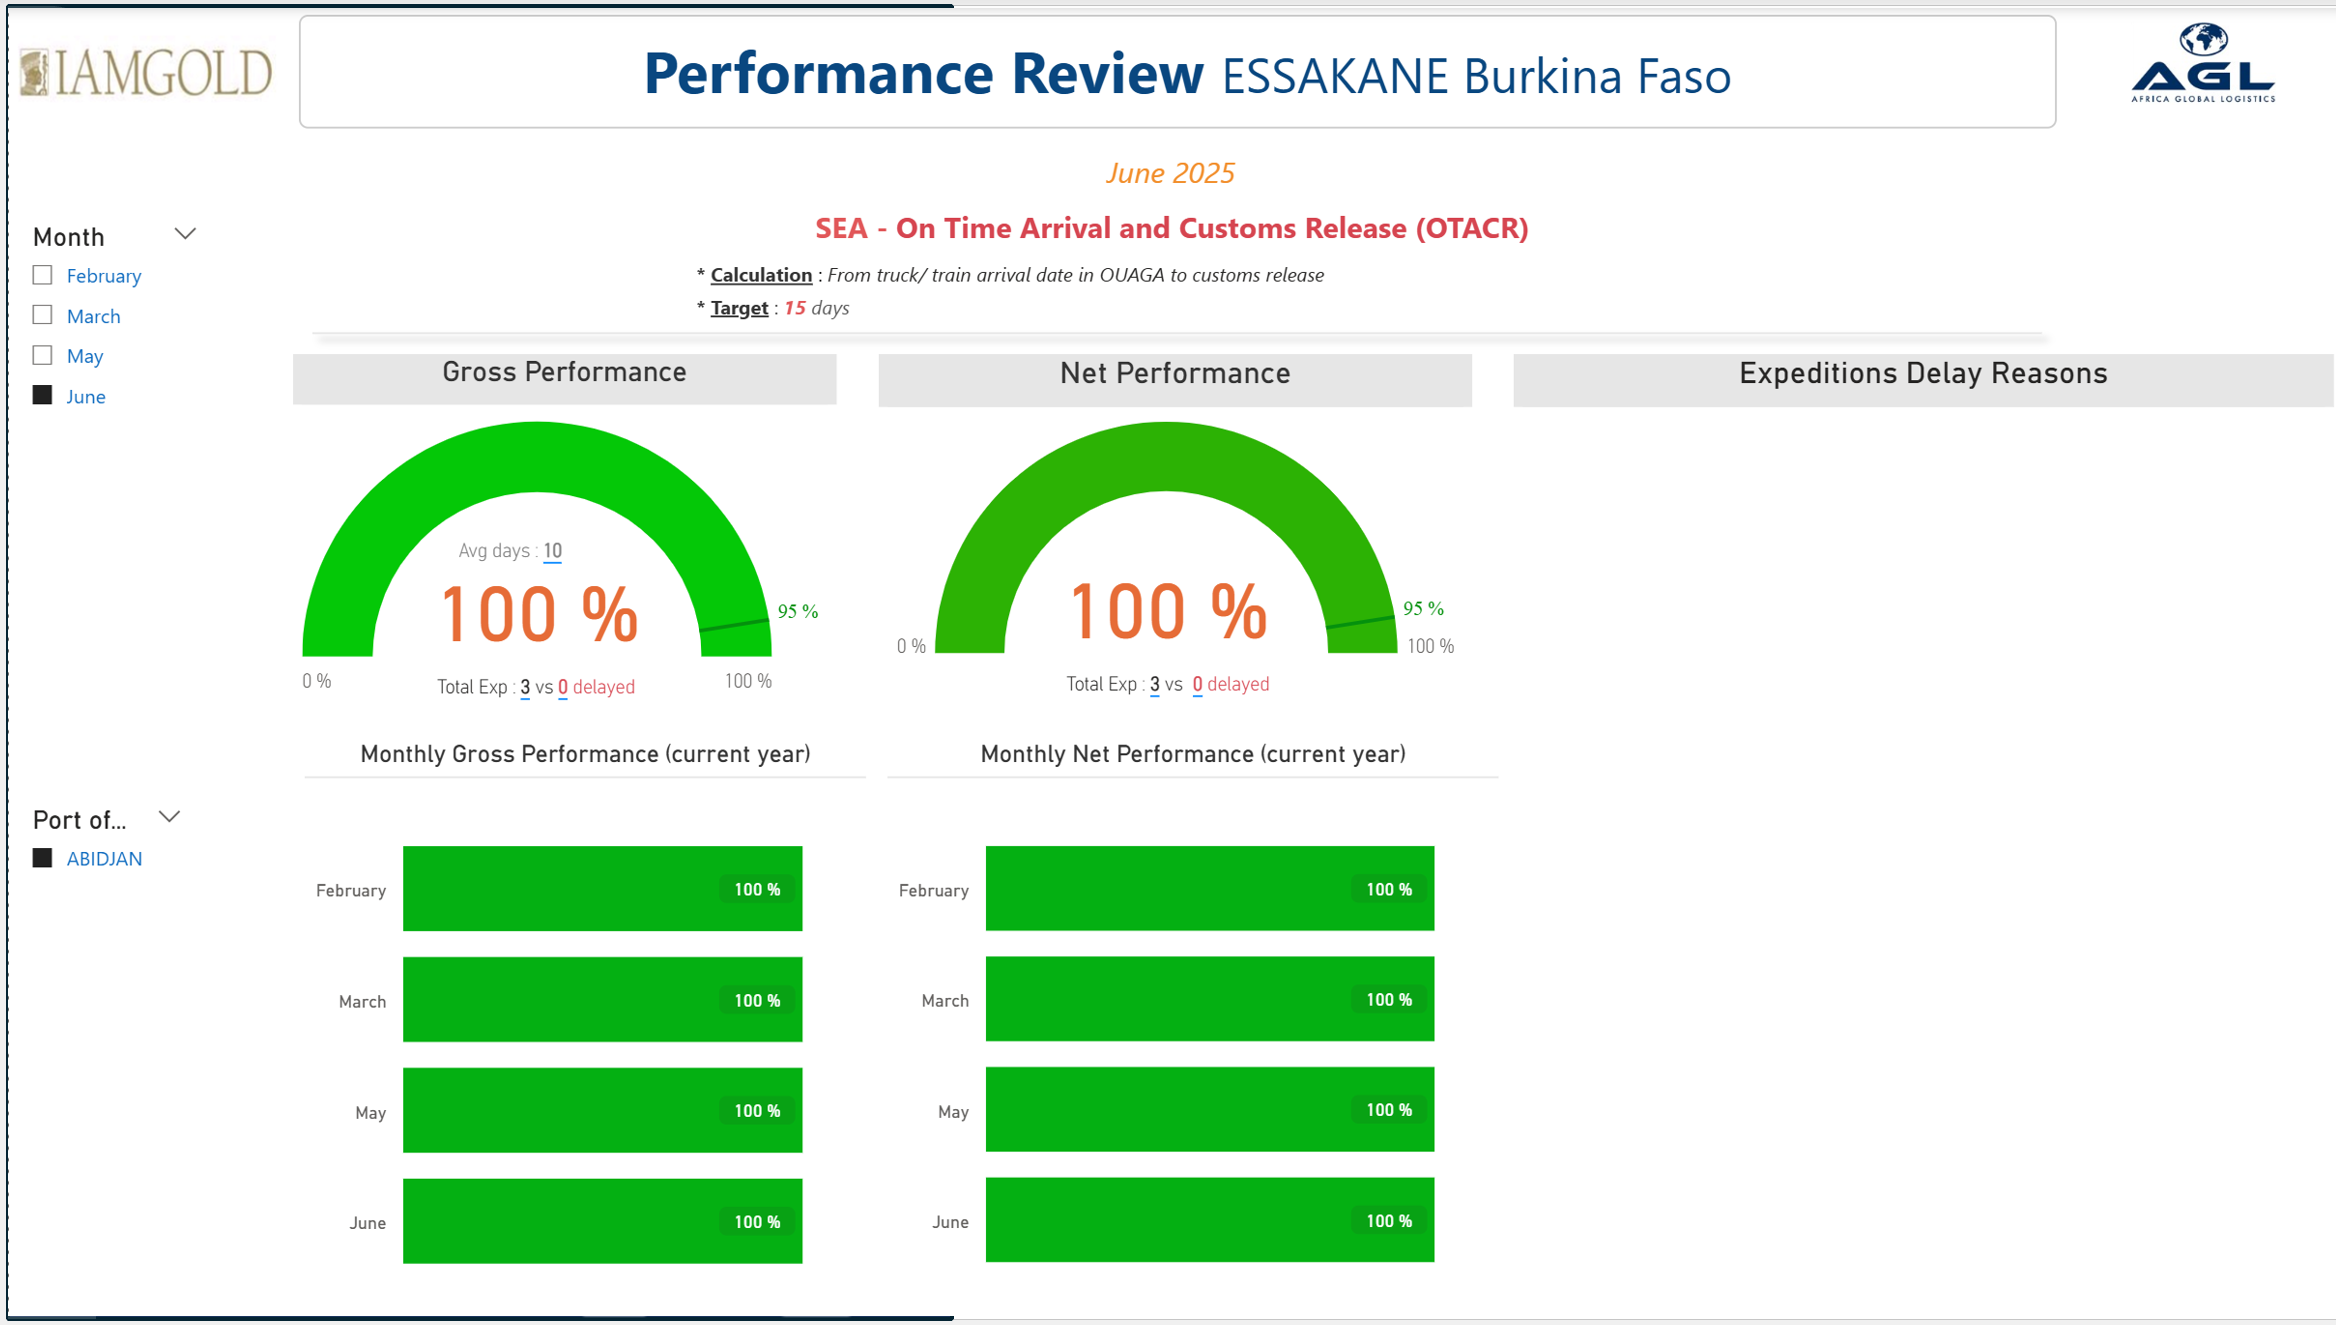

This screenshot's page, from the dashboard's own definition file:
{"tool":"powerbi","page":{"name":"SEA - ABJ | Clearance and Customs Release (OTACR)","canvas":[1280,720],"ordinal":4},"visuals":[{"type":"image","box":[1128.2,0,151.5,66.6],"z":0},{"type":"image","box":[0,0.9,152.4,65.7],"z":1000},{"type":"textbox","box":[158.5,4.4,963.5,62.2],"z":2000},{"type":"textbox","box":[369.6,104.2,535.2,33.3],"z":3000},{"type":"textbox","box":[435.3,75.3,403.8,37.7],"z":4000},{"type":"textbox","box":[371.5,132.5,474.4,47.4],"z":5000},{"type":"gauge","title":"Net Performance","fields":{"Y":["Avg(ESSA_sea.Net Performance % 3)"]},"box":[477.3,190.4,325.4,182],"z":5000,"group":"g1"},{"type":"shape","box":[156.8,170.8,966.1,18.4],"z":6000},{"type":"slicer","fields":{"Values":["ESSA_sea.Month"]},"box":[0,113,115.6,275.9],"z":7000},{"type":"gauge","title":"Gross Performance","fields":{"Y":["Avg(ESSA_sea.Gross Performance % 3)"]},"box":[156.5,190.4,298.1,202.4],"z":8000},{"type":"slicer","fields":{"Values":["ESSA_sea.Port of Discharge"]},"box":[0,431.8,106.9,94.6],"z":9000},{"type":"group","id":"g1","title":"Groupe 1","box":[477.3,190.4,325.4,182],"z":10000,"group":"g2"},{"type":"barChart","title":"Monthly Gross Performance (current year)","fields":{"Y":["Avg(ESSA_sea.Gross Performance % 3)"],"Category":["ESSA_sea.Month"]},"box":[162.2,402.9,307.7,317.4],"z":10000},{"type":"barChart","title":"Monthly Net Performance (current year)","fields":{"Y":["Avg(ESSA_sea.Net Performance % 3)"],"Category":["ESSA_sea.Month"]},"box":[481.3,402.9,335,316.5],"z":11000},{"type":"barChart","title":"Expeditions Delay Reasons","fields":{"Category":["ESSA_sea.Reasons for Delay 3"],"Y":["CountNonNull(ESSA_sea.Reasons for Delay 3)"]},"box":[825.4,190.4,449.6,276.1],"z":12000},{"type":"treemap","fields":{"Group":["ESSA_sea.Delay Responsibility3"],"Values":["CountNonNull(ESSA_sea.Delay Responsibility3)"]},"box":[825,469,449,250],"z":13000},{"type":"textbox","box":[241.3,282.6,100,33.9],"z":14000},{"type":"textbox","box":[208,357,161.3,31.7],"z":15000},{"type":"group","id":"g2","title":"Groupe 2","box":[477.3,190.4,325.4,197.5],"z":17000},{"type":"textbox","box":[554.7,356.1,161.3,31.7],"z":17000,"group":"g2"}]}

Visuals, with their boxes in screenshot pixels (x1, y1, x2, y2), scaled from the page's 1280x720 canvas onto the 2336x1325 screenshot:
image: {"x1": 2059, "y1": 0, "x2": 2335, "y2": 123}
image: {"x1": 0, "y1": 2, "x2": 278, "y2": 123}
textbox: {"x1": 289, "y1": 8, "x2": 2048, "y2": 123}
textbox: {"x1": 675, "y1": 192, "x2": 1651, "y2": 253}
textbox: {"x1": 794, "y1": 139, "x2": 1531, "y2": 208}
textbox: {"x1": 678, "y1": 244, "x2": 1544, "y2": 331}
"Net Performance" gauge: {"x1": 871, "y1": 350, "x2": 1465, "y2": 685}
shape: {"x1": 286, "y1": 314, "x2": 2049, "y2": 348}
slicer - ESSA_sea.Month: {"x1": 0, "y1": 208, "x2": 211, "y2": 716}
"Gross Performance" gauge: {"x1": 286, "y1": 350, "x2": 830, "y2": 723}
slicer - ESSA_sea.Port of Discharge: {"x1": 0, "y1": 795, "x2": 195, "y2": 969}
"Groupe 1" group: {"x1": 871, "y1": 350, "x2": 1465, "y2": 685}
"Monthly Gross Performance (current year)" barChart: {"x1": 296, "y1": 741, "x2": 858, "y2": 1324}
"Monthly Net Performance (current year)" barChart: {"x1": 878, "y1": 741, "x2": 1490, "y2": 1324}
"Expeditions Delay Reasons" barChart: {"x1": 1506, "y1": 350, "x2": 2327, "y2": 858}
treemap - ESSA_sea.Delay Responsibility3 x CountNonNull(ESSA_sea.Delay Responsibility3): {"x1": 1506, "y1": 863, "x2": 2325, "y2": 1323}
textbox: {"x1": 440, "y1": 520, "x2": 623, "y2": 582}
textbox: {"x1": 380, "y1": 657, "x2": 674, "y2": 715}
"Groupe 2" group: {"x1": 871, "y1": 350, "x2": 1465, "y2": 714}
textbox: {"x1": 1012, "y1": 655, "x2": 1307, "y2": 714}
